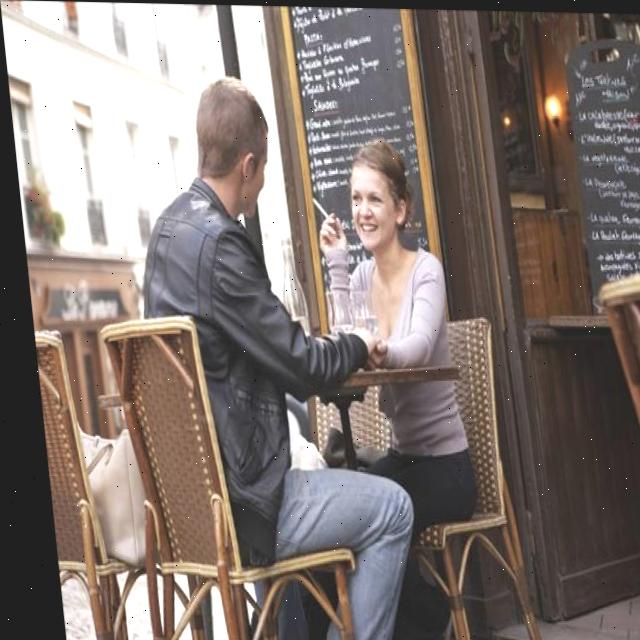cigarette: (309, 199, 324, 216)
